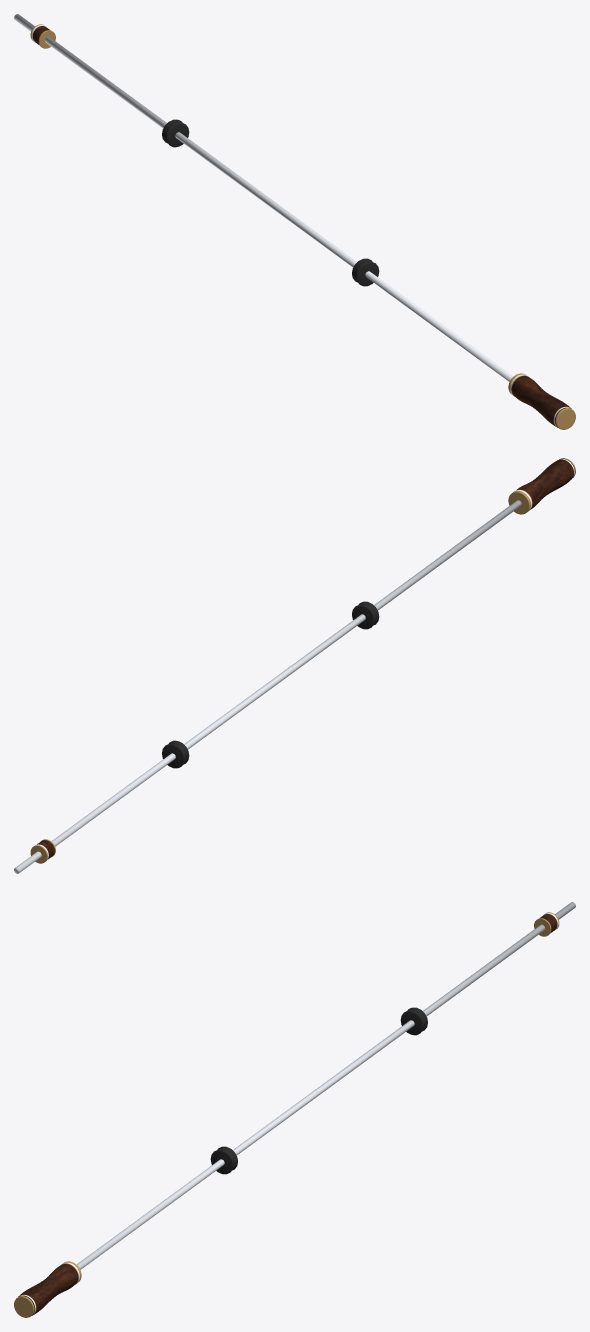
The model's file is fuzeball_rod_1man.glb.
3 views of the same model, one above another, from view 1: azimuth 30°, elevation 25°; view 2: azimuth 150°, elevation 25°; view 3: azimuth 330°, elevation 25° (orthographic).
Visible parts, largest first — view 1: rod1_bar.002, rod1_handle_walnut_grip, CylinderL, CylinderR; view 2: rod1_bar.002, rod1_handle_walnut_grip, CylinderL, CylinderR; view 3: rod1_bar.002, rod1_handle_walnut_grip, CylinderL, CylinderR.
Part boxes in pixels (left/top/right/bottom): rod1_bar.002: left=14, top=14, right=513, bottom=381; rod1_handle_walnut_grip: left=511, top=376, right=571, bottom=427; CylinderL: left=352, top=258, right=379, bottom=286; CylinderR: left=162, top=119, right=189, bottom=147; rod1_bar.002: left=14, top=500, right=521, bottom=873; rod1_handle_walnut_grip: left=517, top=459, right=573, bottom=509; CylinderL: left=352, top=601, right=379, bottom=629; CylinderR: left=162, top=740, right=189, bottom=768; rod1_bar.002: left=76, top=902, right=575, bottom=1269; rod1_handle_walnut_grip: left=18, top=1264, right=78, bottom=1315; CylinderL: left=210, top=1146, right=237, bottom=1174; CylinderR: left=400, top=1007, right=427, bottom=1035.
Size of the model in its own units: 3.02 by 3.02 by 124.
Materials: 6 (1 with a texture image).
